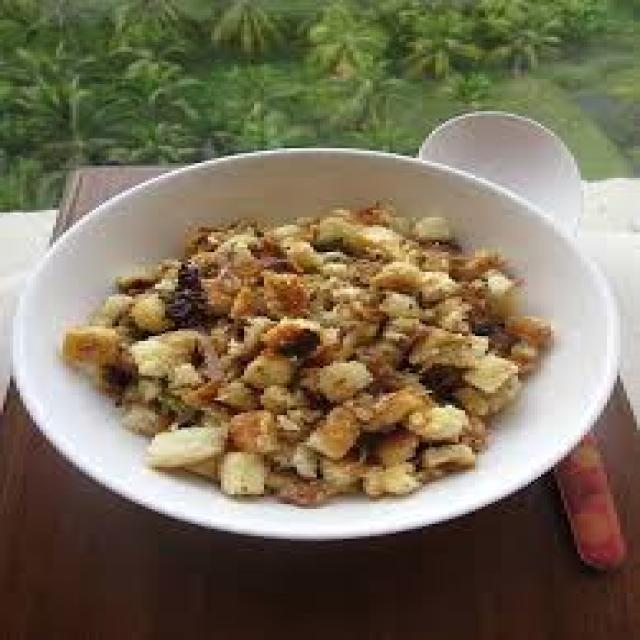BAJI: (63, 203, 544, 494)
